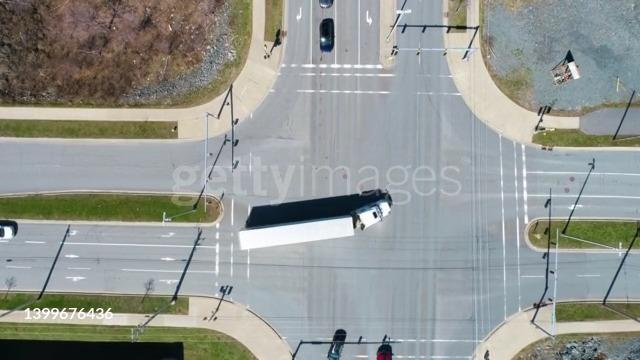car: (326, 329, 350, 360), (321, 19, 334, 51), (0, 222, 18, 240), (376, 342, 394, 360), (318, 0, 334, 10)
truck: (237, 191, 394, 253)
